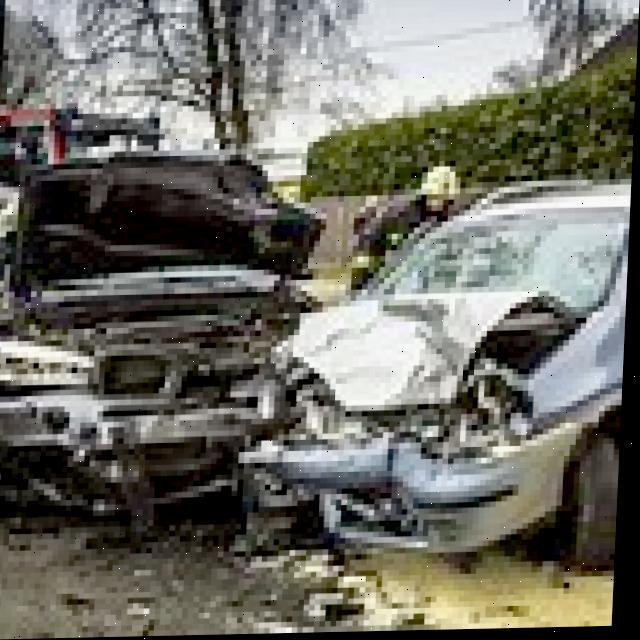multiple_accident: (5, 80, 600, 590)
